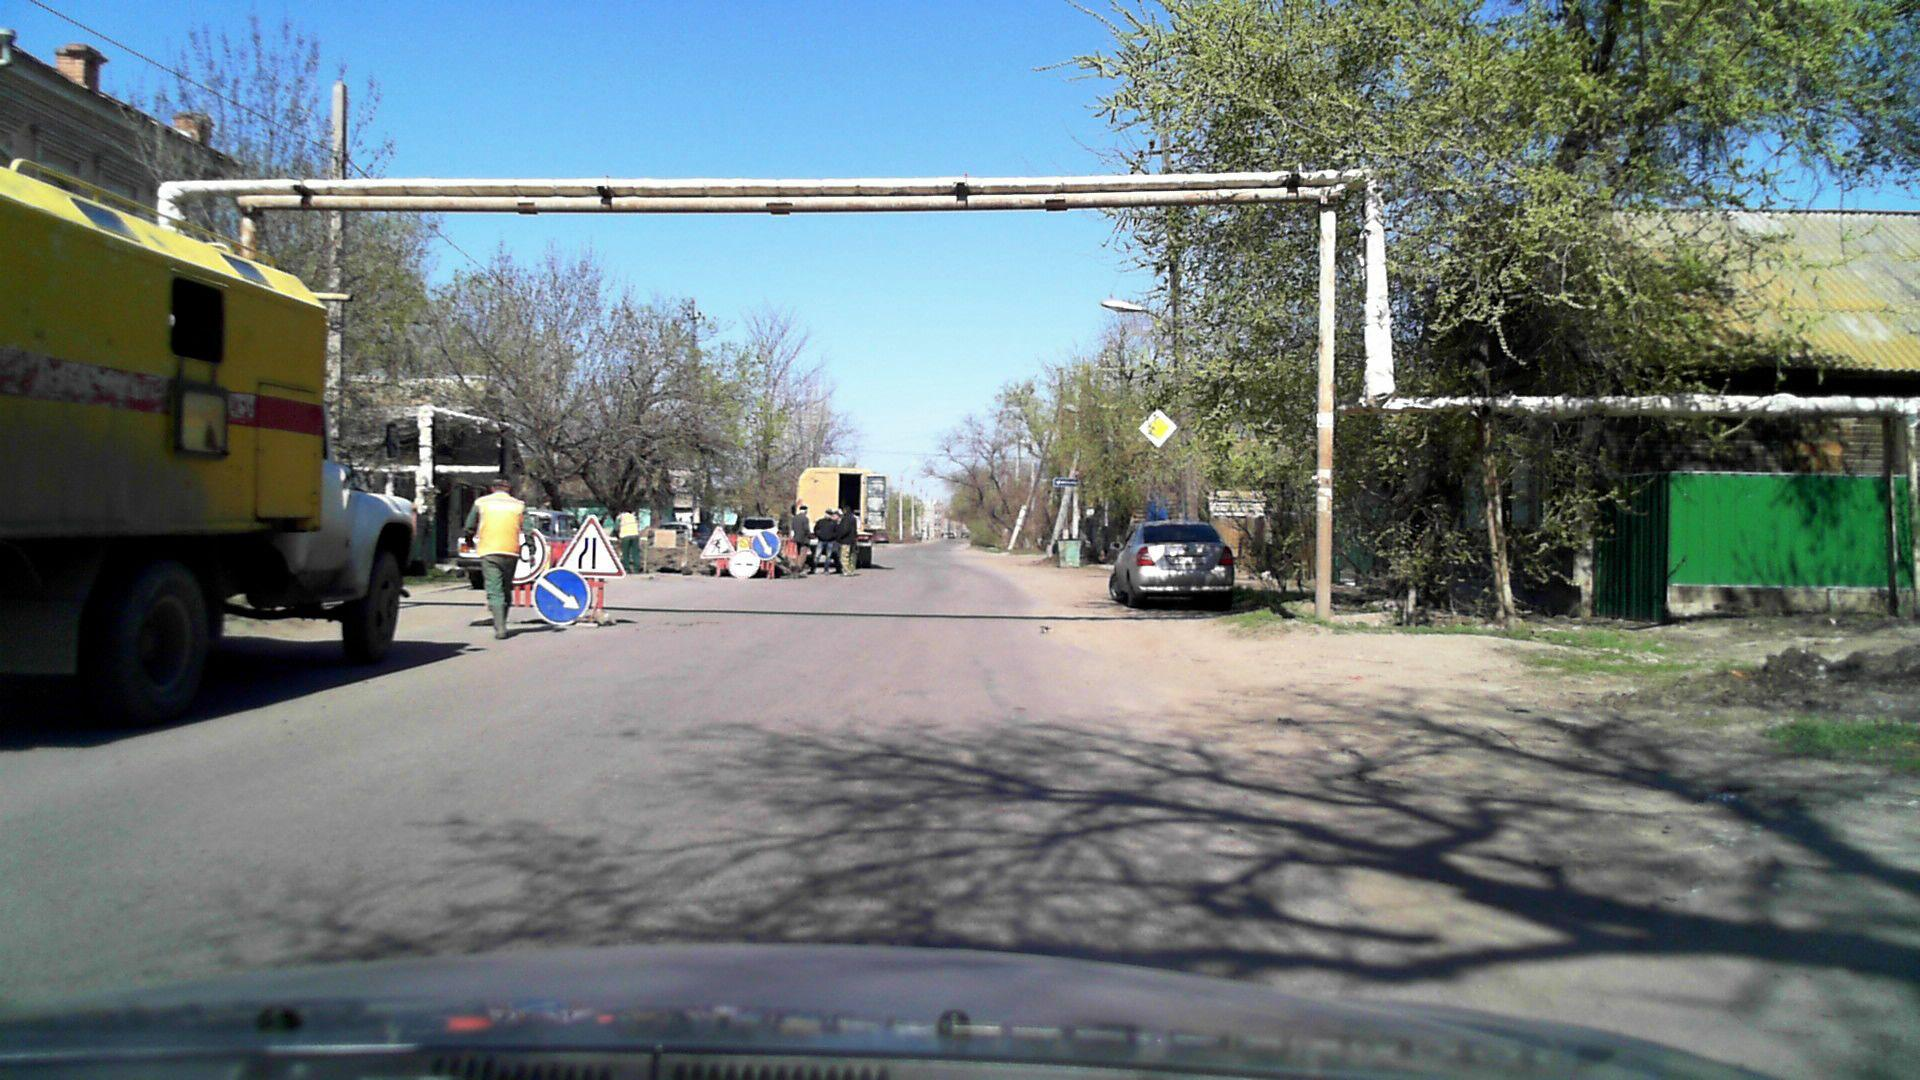1_20_3: (556, 513, 626, 575)
1_25: (699, 526, 736, 560)
2_1: (1138, 407, 1176, 447)
3_20: (728, 549, 760, 579)
4_2_1: (531, 566, 589, 626), (750, 527, 786, 560)
5_7_2: (1054, 475, 1079, 487)
